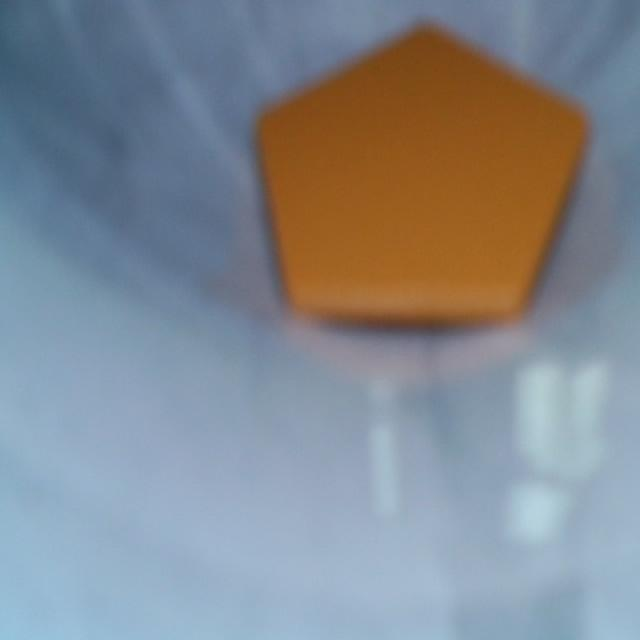pentagon: (258, 29, 585, 323)
